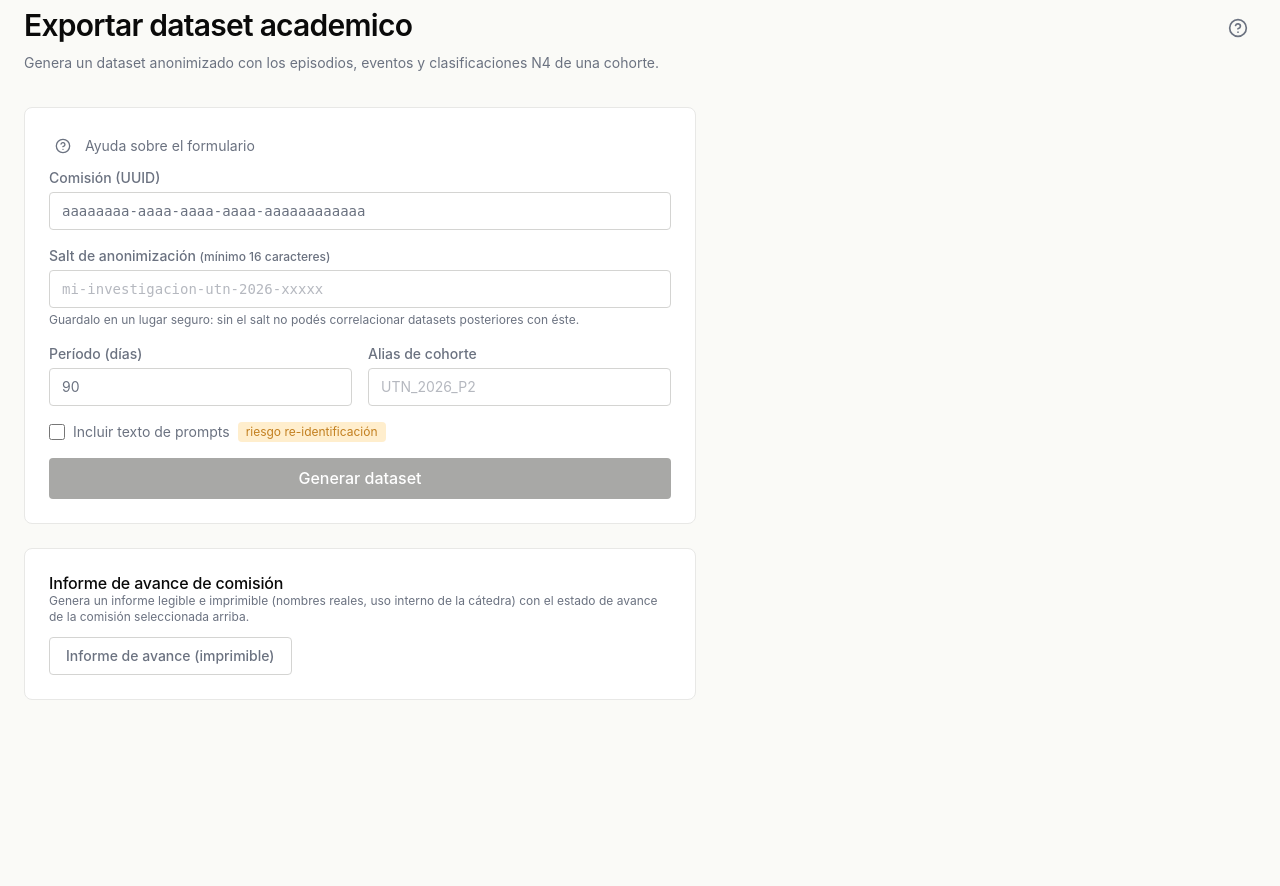
Test: ExportView — informe de avance (imprimible) › genera y muestra el informe con nombre real + rotulo de privacidad, y dispara print
Click the button "Informe de avance (imprimible)" at (170, 656), box [49,637,292,675]
(page scrolled)
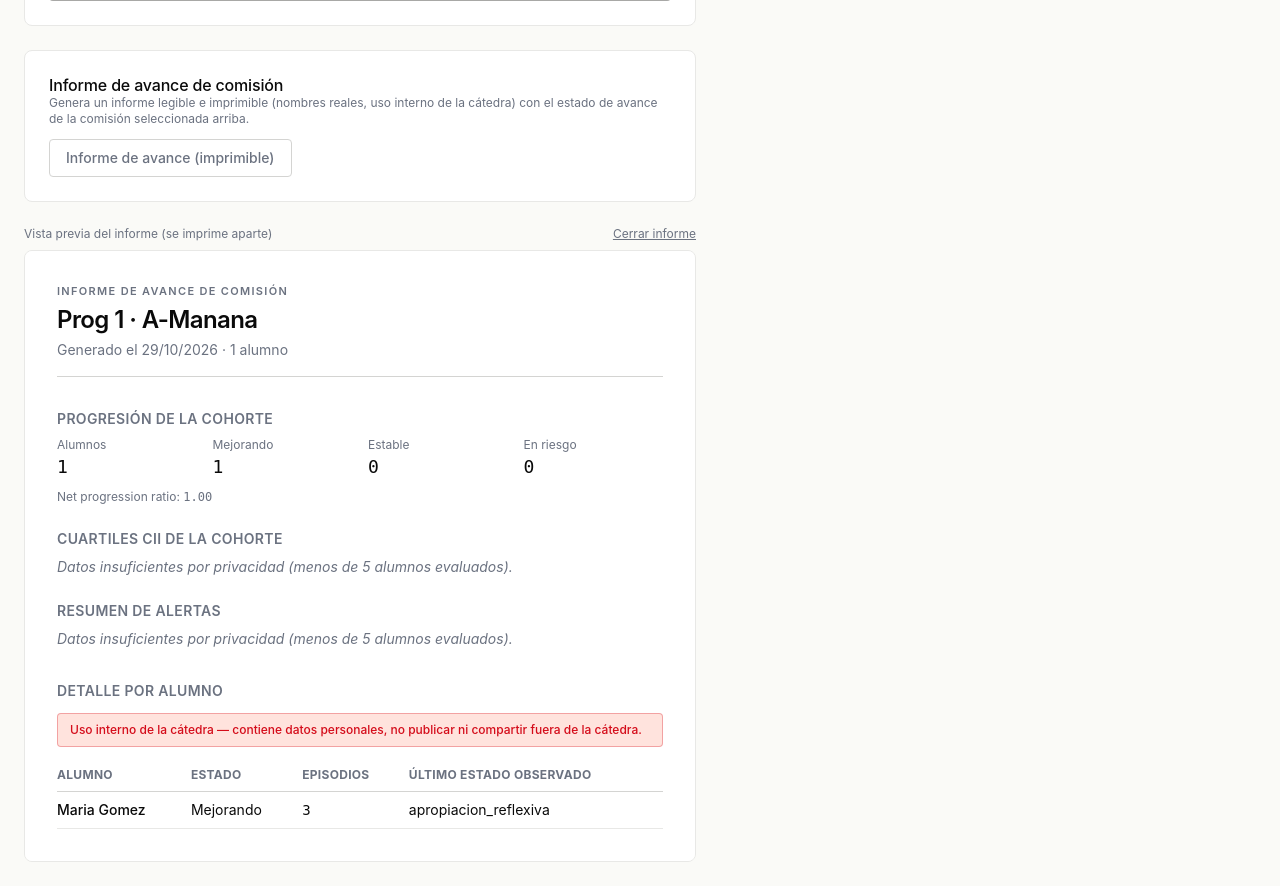
Expected: the text "Maria Gomez" is shown, [57,792,191,829]
